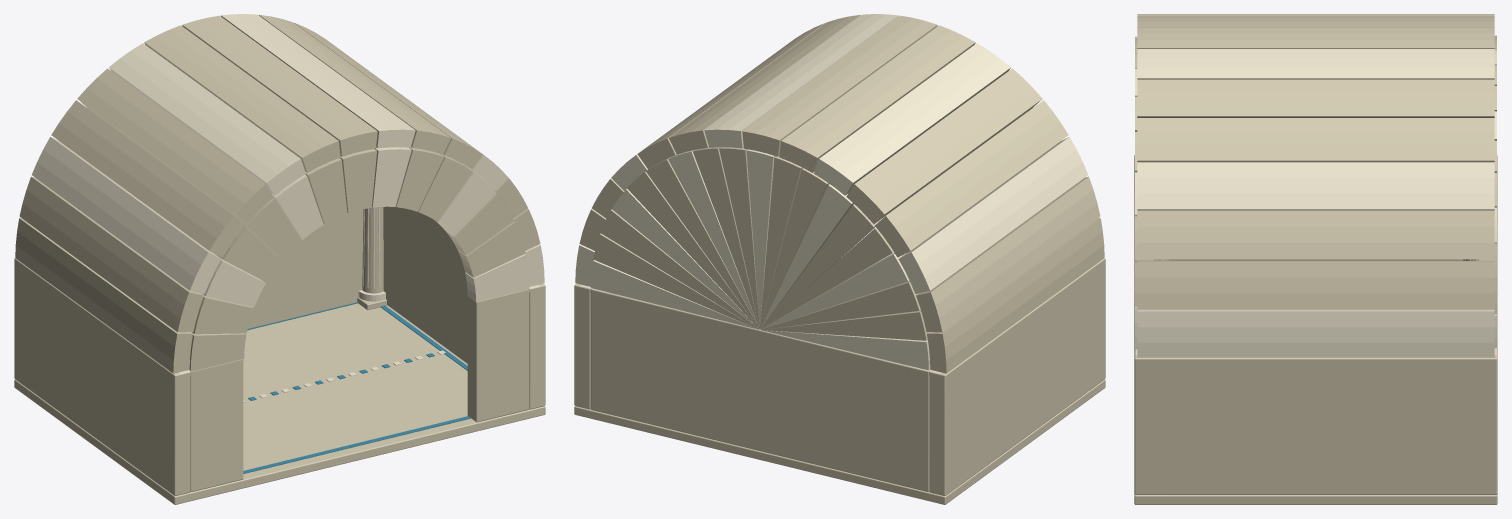
The model's file is fantasy-bathhouse-and-thermal-sanctuary-fantasy-bathho-3164d81a__29429.glb.
The picture shows the model from 3 angles, left to right: view 1: azimuth 30°, elevation 25°; view 2: azimuth 150°, elevation 25°; view 3: azimuth 270°, elevation 25°; orthographic projection. The views are drawn at different scales.
Visible parts, largest first — view 1: fantasy-bathhouse-and-thermal-sanctuary-vaulted-bathhouse-ha (×3); view 2: fantasy-bathhouse-and-thermal-sanctuary-vaulted-bathhouse-ha (×2); view 3: fantasy-bathhouse-and-thermal-sanctuary-vaulted-bathhouse-ha (×2).
Part boxes in pixels (left/top/right/bottom): fantasy-bathhouse-and-thermal-sanctuary-vaulted-bathhouse-ha (×3): left=14, top=14, right=545, bottom=504; fantasy-bathhouse-and-thermal-sanctuary-vaulted-bathhouse-ha (×2): left=574, top=14, right=1105, bottom=504; fantasy-bathhouse-and-thermal-sanctuary-vaulted-bathhouse-ha (×2): left=1134, top=14, right=1497, bottom=504.
Size of the model in its own units: 8 by 6.68 by 6.
